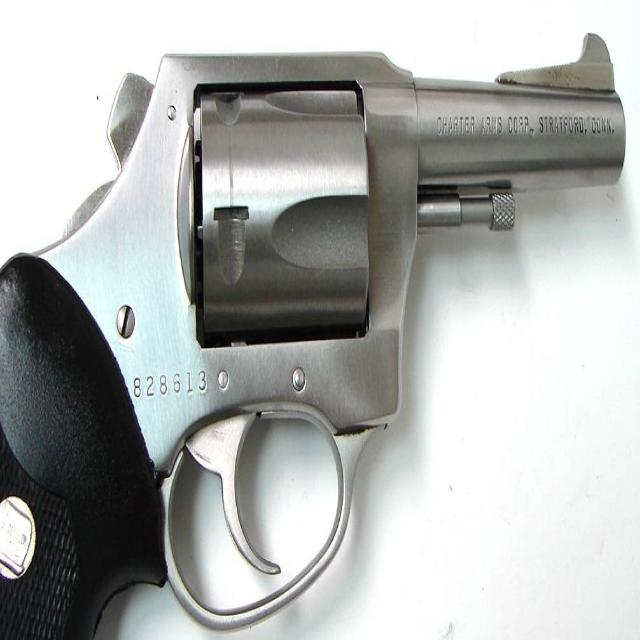Gun: (0, 45, 630, 640)
